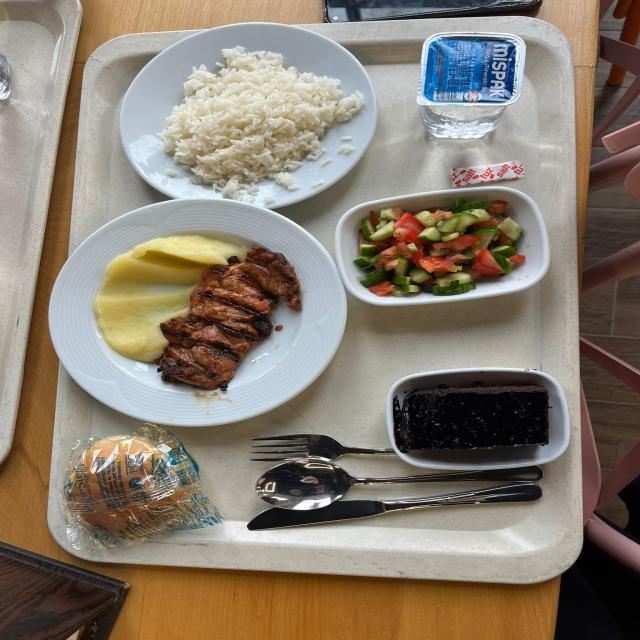ana_yemek: (44, 199, 338, 397), (119, 22, 371, 204)
yan_yemek: (330, 189, 530, 307), (386, 368, 563, 462)
